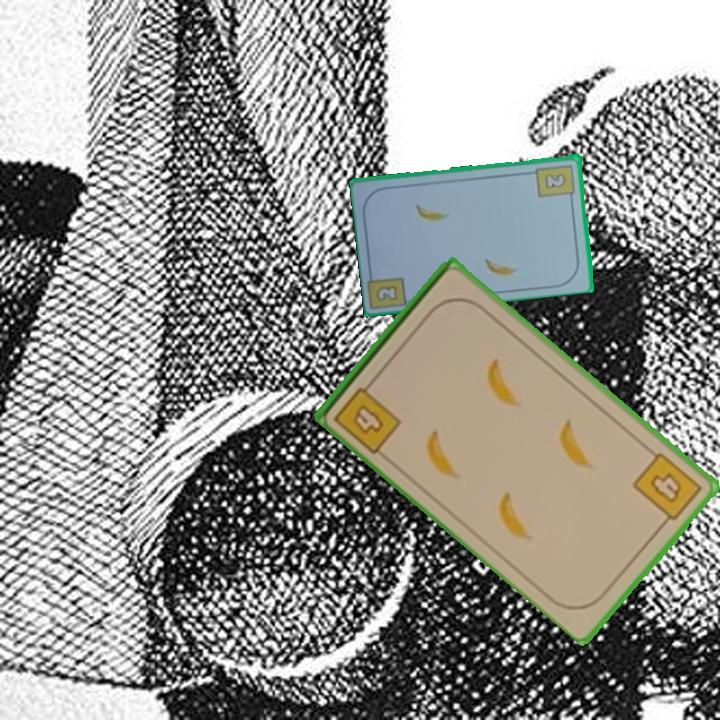2b: (533, 161, 578, 203), (372, 282, 401, 304)
4b: (628, 448, 705, 530), (330, 374, 405, 457)
